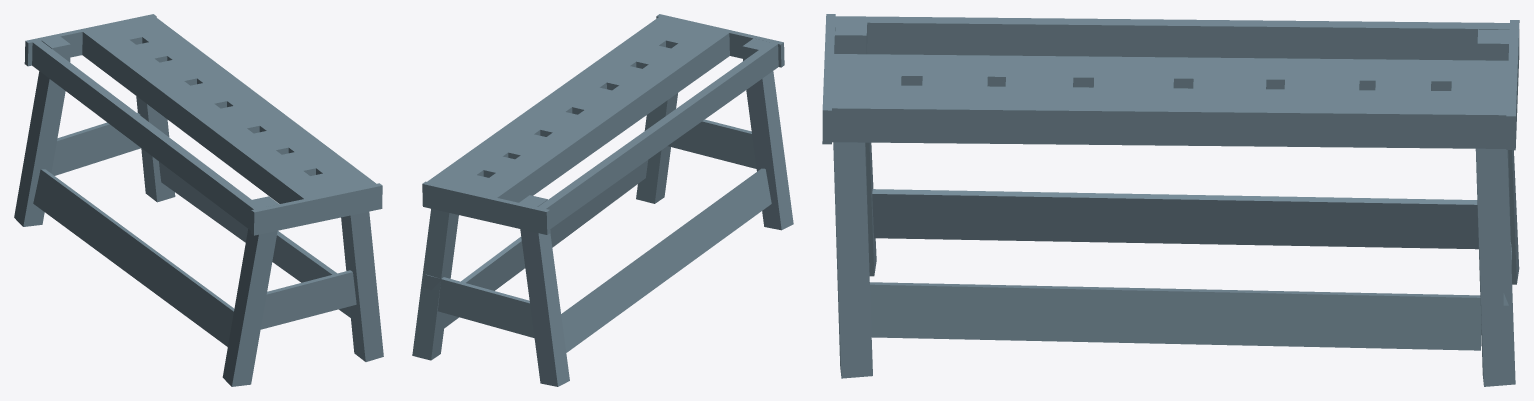
Rendered from table.glb.
The picture shows the model from 3 angles, left to right: view 1: azimuth 30°, elevation 25°; view 2: azimuth 150°, elevation 25°; view 3: azimuth 270°, elevation 25°; orthographic projection. The views are drawn at different scales.
Visible parts, largest first — view 1: group1207236798; view 2: group1207236798; view 3: group1207236798.
Boxes of the visible parts, box(x1,y1,x2,y2) form: group1207236798: box(14, 14, 383, 386); group1207236798: box(412, 14, 793, 386); group1207236798: box(822, 14, 1519, 386).
Bounding box in the file's own units: 0.3907 × 0.428 × 0.9995.
